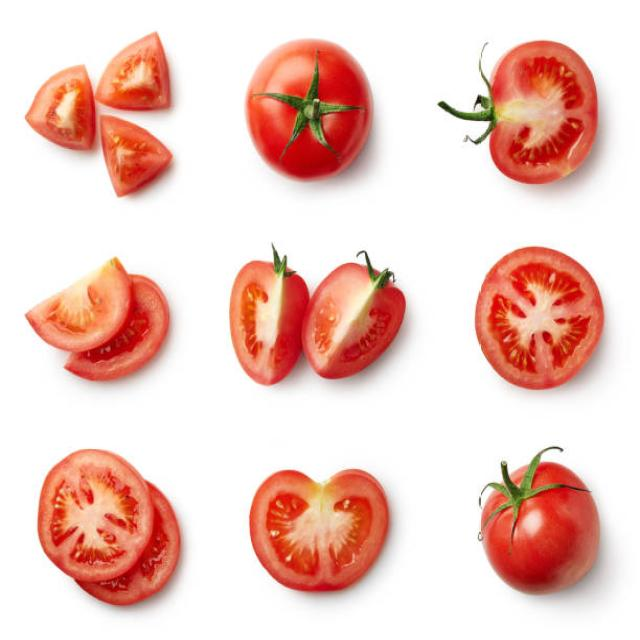Tomato: (30, 426, 209, 632), (444, 17, 611, 211), (466, 222, 610, 394), (252, 443, 399, 601), (38, 250, 188, 392), (302, 241, 411, 395), (242, 232, 312, 402), (81, 17, 181, 119), (91, 98, 183, 206), (26, 53, 106, 169)
